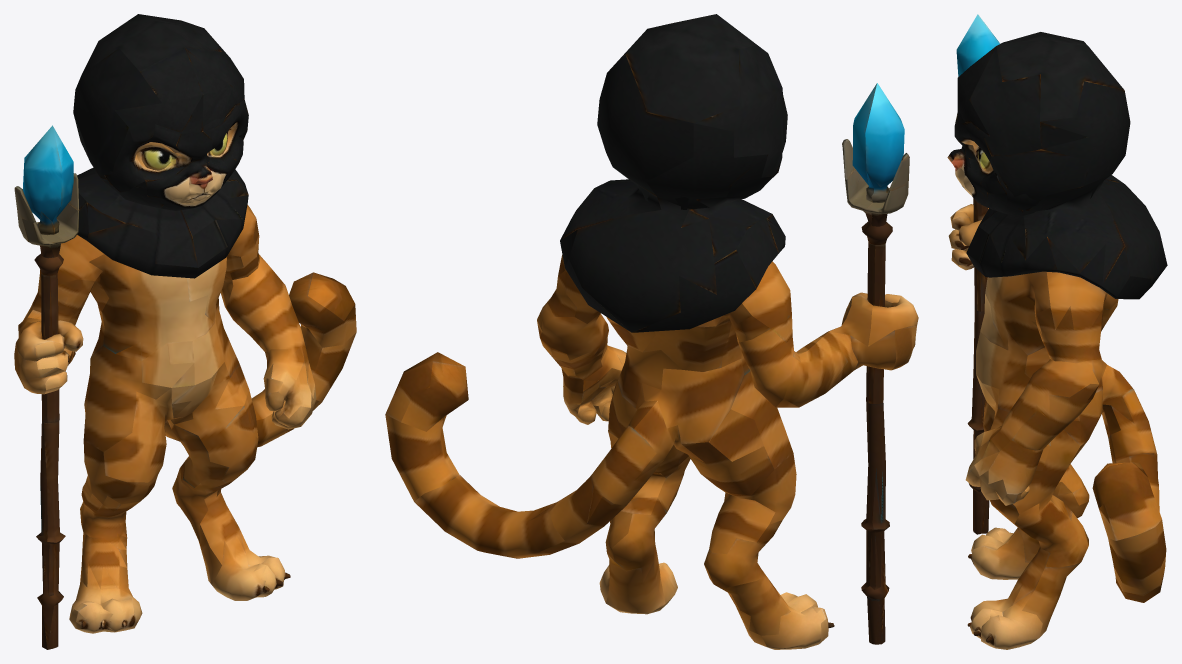
Rendered from cat_a.glb.
The picture shows the model from 3 angles, left to right: view 1: azimuth 30°, elevation 25°; view 2: azimuth 150°, elevation 25°; view 3: azimuth 270°, elevation 25°; orthographic projection. The views are drawn at different scales.
Parts seen in each view (by area): view 1: mesh_node; view 2: mesh_node; view 3: mesh_node.
Boxes of the visible parts, x1=… form: mesh_node: x1=14, y1=14, x2=356, y2=649; mesh_node: x1=385, y1=14, x2=918, y2=649; mesh_node: x1=947, y1=14, x2=1167, y2=649.
Size of the model in its own units: 0.7578 by 1 by 0.3535.
Materials: 1 (1 with a texture image).
